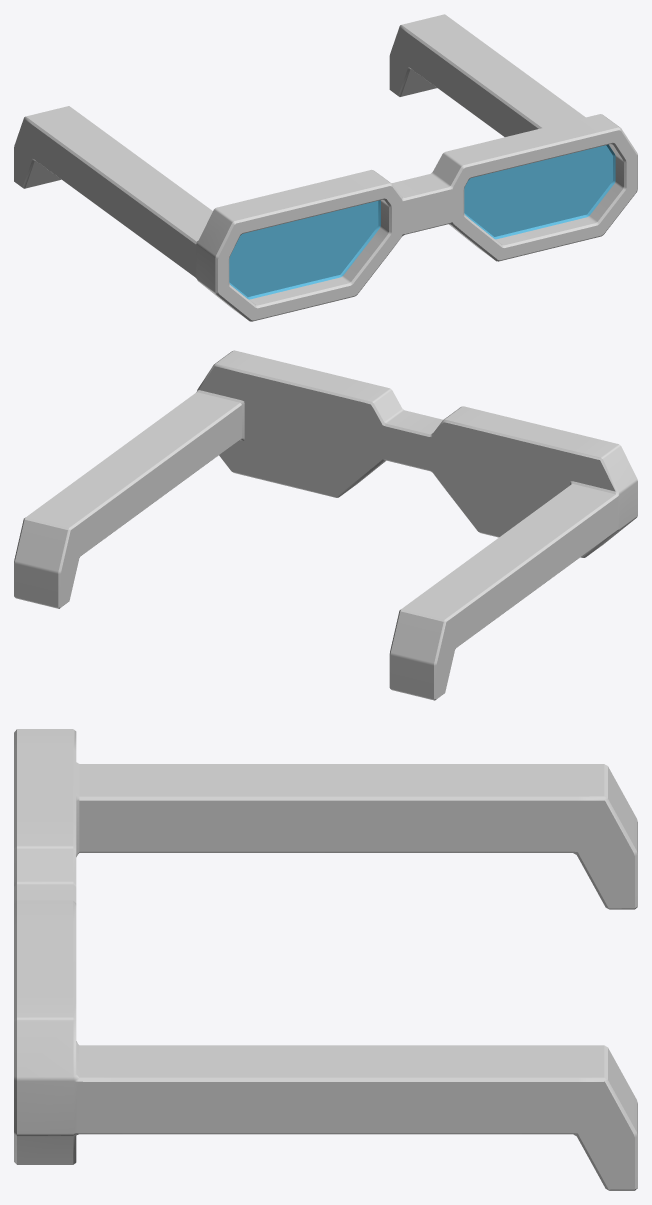
The model's file is Glasses.fbx.
The picture shows the model from 3 angles, top to bottom: view 1: azimuth 30°, elevation 25°; view 2: azimuth 150°, elevation 25°; view 3: azimuth 270°, elevation 25°; orthographic projection. The views are drawn at different scales.
Parts seen in each view (by area): view 1: Glarses; view 2: Glarses; view 3: Glarses.
Boxes of the visible parts, bbox=[...] form: Glarses: bbox=[14, 14, 637, 321]; Glarses: bbox=[14, 350, 637, 700]; Glarses: bbox=[14, 729, 637, 1190].
Bounding box in the file's own units: 18 × 4.27 × 15.
